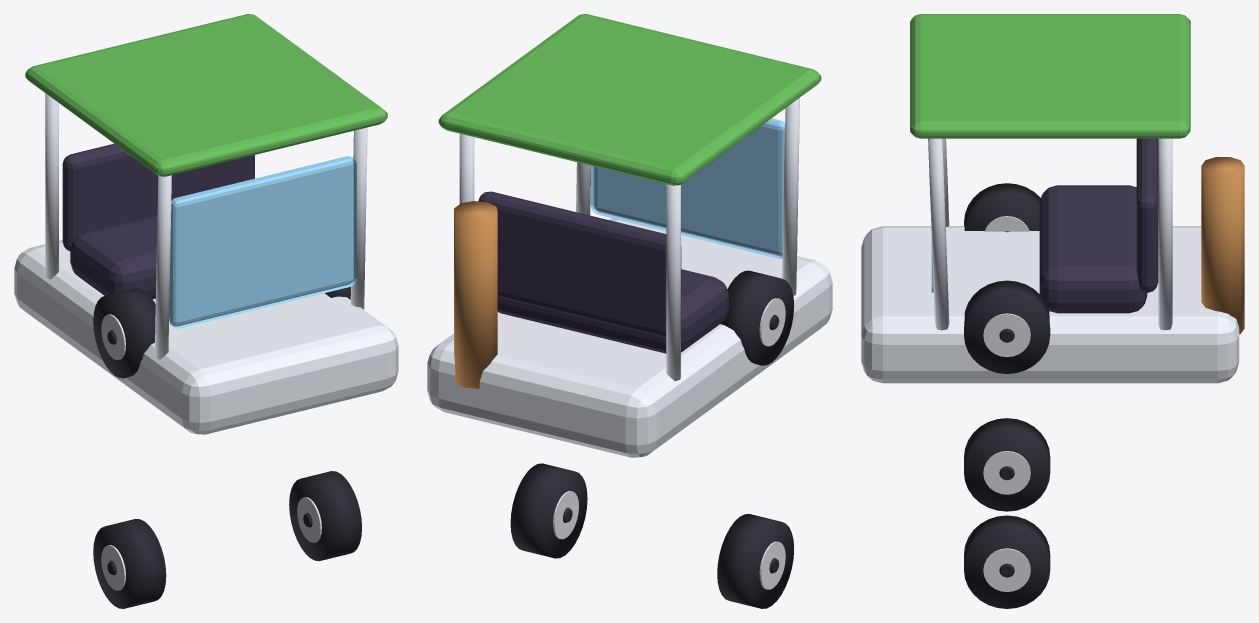
The model's file is Car_GolfCart.fbx.
The picture shows the model from 3 angles, left to right: view 1: azimuth 30°, elevation 25°; view 2: azimuth 150°, elevation 25°; view 3: azimuth 270°, elevation 25°; orthographic projection. The views are drawn at different scales.
Parts seen in each view (by area): view 1: Car_GolfCart, Wheel_FR, Wheel_FL, Wheel_RL; view 2: Car_GolfCart, Wheel_FR, Wheel_FL, Wheel_RL; view 3: Car_GolfCart, Wheel_FL, Wheel_FR, Wheel_RR, Wheel_RL.
Part boxes in pixels (left/top/right/bottom): Car_GolfCart: left=14, top=14, right=398, bottom=434; Wheel_FR: left=289, top=471, right=361, bottom=561; Wheel_FL: left=93, top=519, right=166, bottom=608; Wheel_RL: left=93, top=288, right=155, bottom=378; Car_GolfCart: left=427, top=14, right=832, bottom=457; Wheel_FR: left=510, top=463, right=587, bottom=558; Wheel_FL: left=717, top=514, right=793, bottom=608; Wheel_RL: left=720, top=270, right=794, bottom=365; Car_GolfCart: left=861, top=14, right=1244, bottom=383; Wheel_FL: left=964, top=418, right=1050, bottom=511; Wheel_FR: left=964, top=515, right=1050, bottom=608; Wheel_RR: left=964, top=280, right=1050, bottom=373; Wheel_RL: left=964, top=183, right=1040, bottom=232.
Size of the model in its own units: 0.766 by 1.48 by 1.06.
